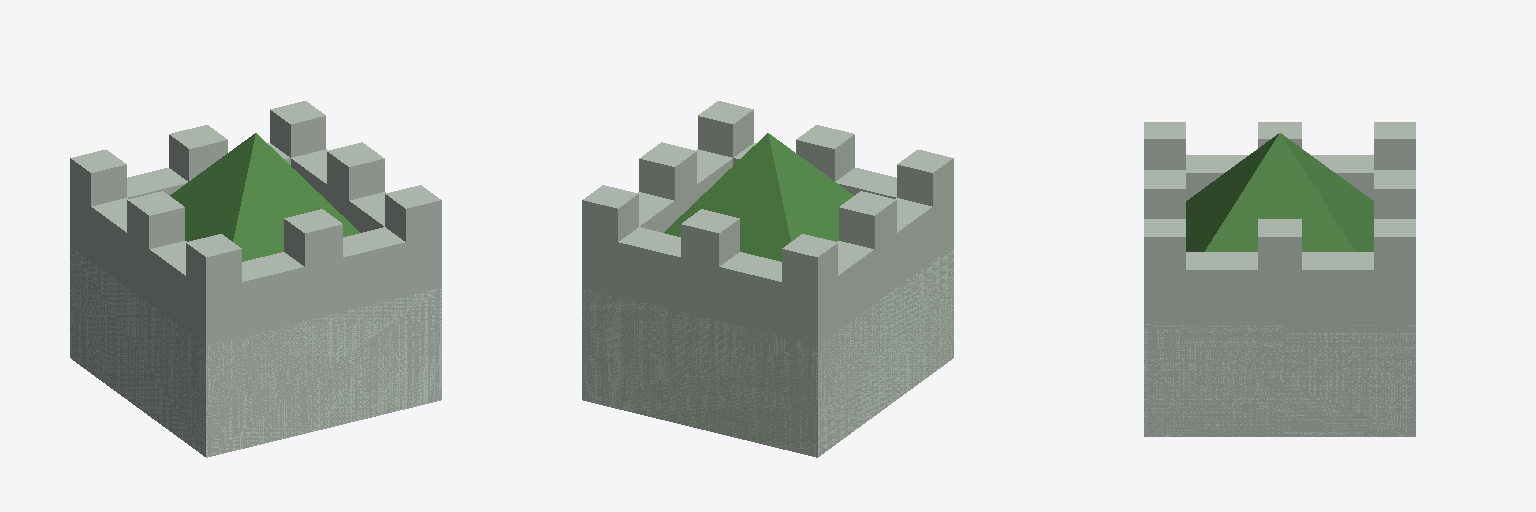
Rendered from tile_029.obj.
3 views of the same model, side by side, from view 1: azimuth 30°, elevation 25°; view 2: azimuth 150°, elevation 25°; view 3: azimuth 270°, elevation 25° (orthographic).
Visible parts, largest first — view 1: tile_029, Group; view 2: tile_029, Group; view 3: tile_029, Group.
Boxes of the visible parts, x1,y1,x2,y2 form: tile_029: [70, 101, 441, 457]; Group: [170, 133, 359, 261]; tile_029: [582, 101, 953, 457]; Group: [664, 133, 853, 261]; tile_029: [1144, 122, 1415, 436]; Group: [1186, 133, 1373, 251].
Size of the model in its own units: 0.5901 by 0.5914 by 0.5901.